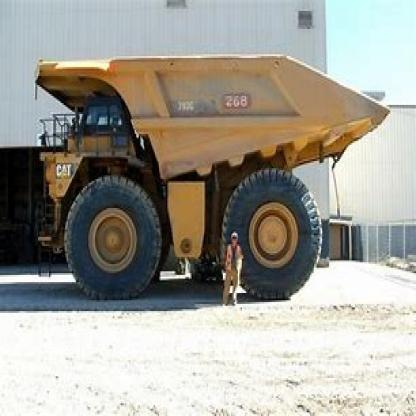dump_truck: (31, 40, 394, 306)
person: (220, 224, 245, 302)
